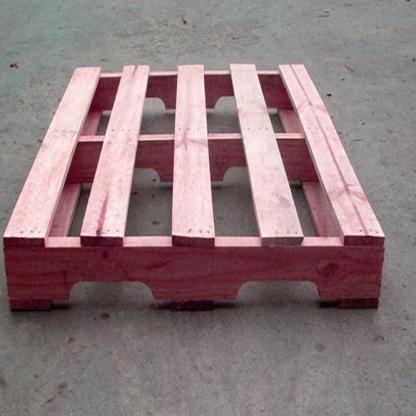BoxFace: (3, 64, 388, 312)
